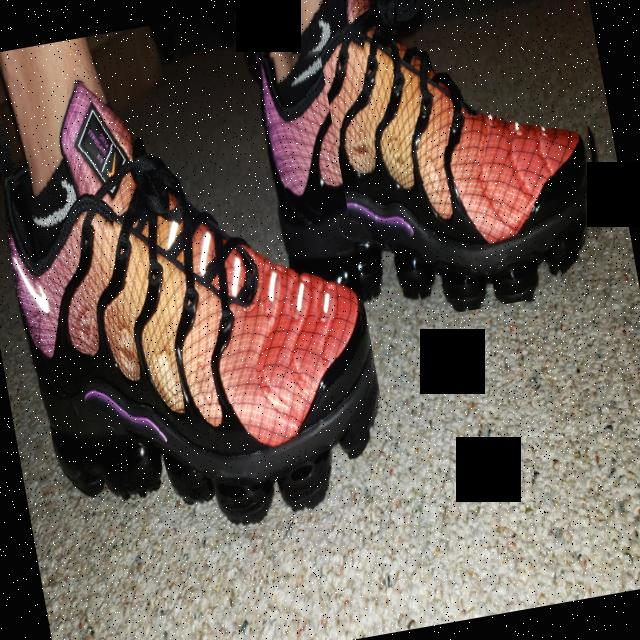shoe: (0, 37, 398, 559), (237, 0, 625, 340)
